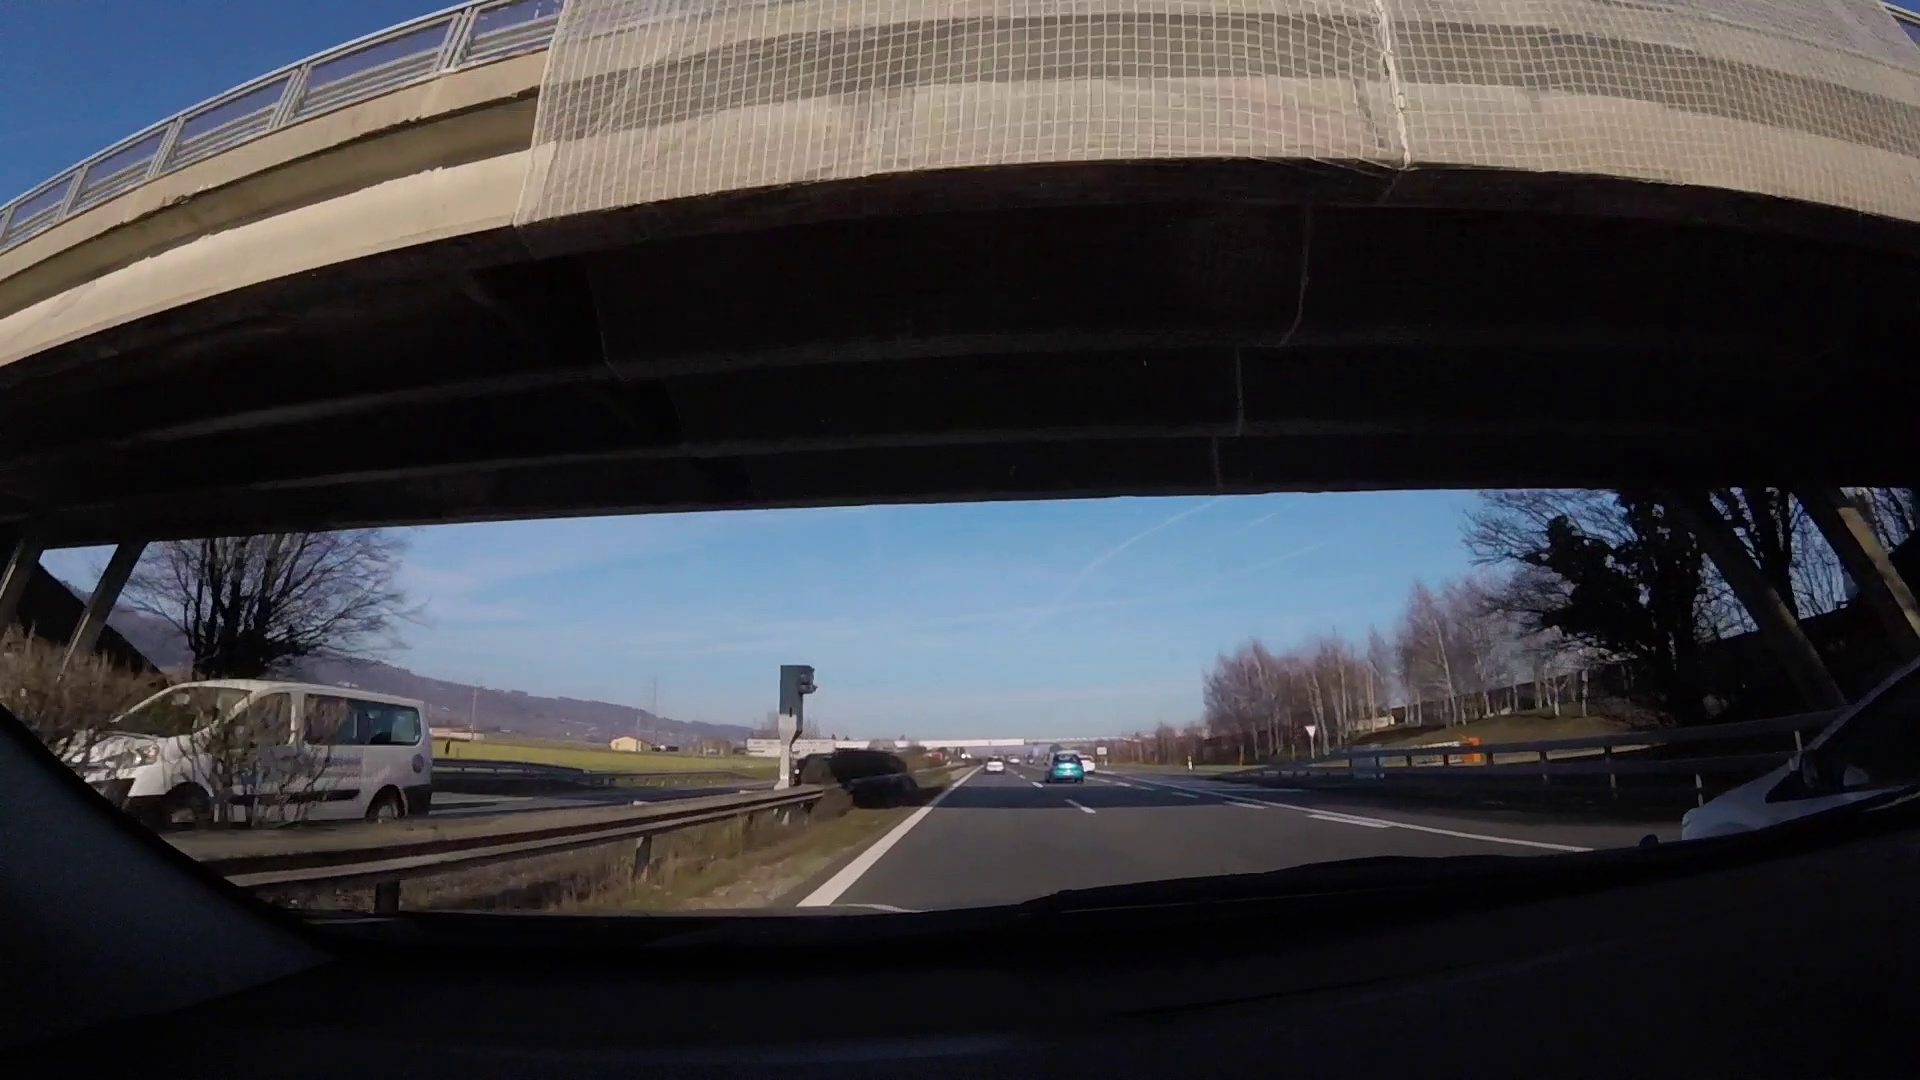radar: (777, 665, 819, 782)
